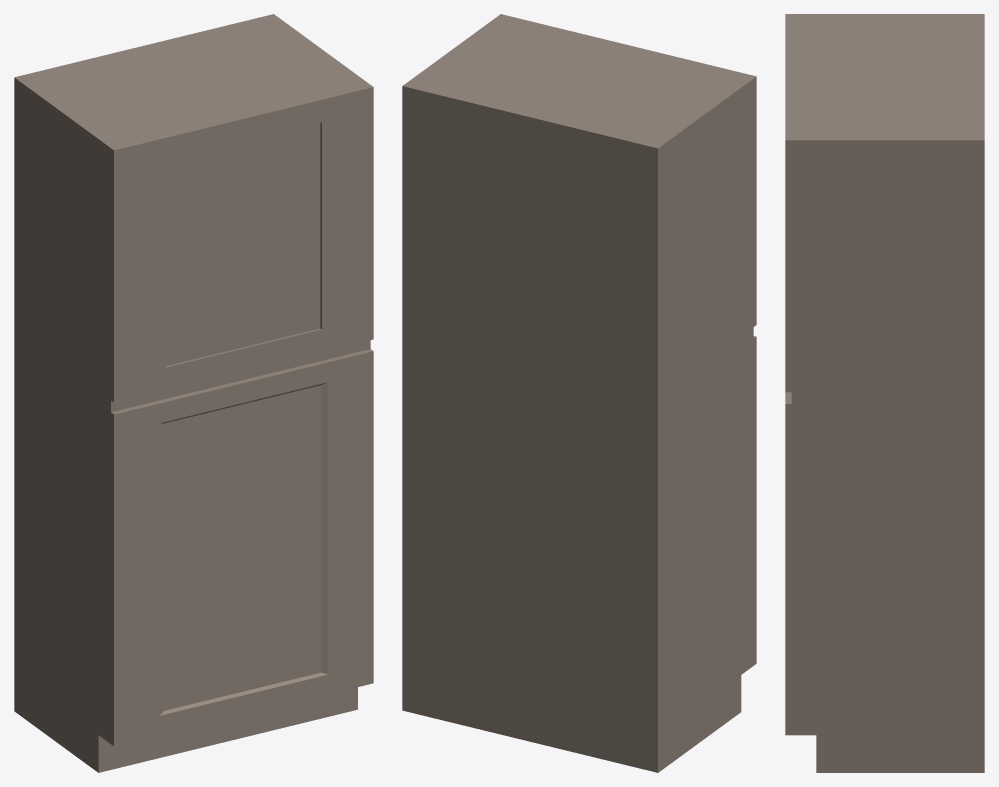
Rendered from Utility-Cabinet-24-Deep_std_001_W36in_2D.glb.
The picture shows the model from 3 angles, left to right: view 1: azimuth 30°, elevation 25°; view 2: azimuth 150°, elevation 25°; view 3: azimuth 270°, elevation 25°; orthographic projection.
Parts seen in each view (by area): view 1: Utility-Cabinet-24-Deep.std.001_W36in_2D; view 2: Utility-Cabinet-24-Deep.std.001_W36in_2D; view 3: Utility-Cabinet-24-Deep.std.001_W36in_2D.
Boxes of the visible parts, left/top/right/bottom form: Utility-Cabinet-24-Deep.std.001_W36in_2D: left=14, top=14, right=373, bottom=772; Utility-Cabinet-24-Deep.std.001_W36in_2D: left=402, top=14, right=756, bottom=772; Utility-Cabinet-24-Deep.std.001_W36in_2D: left=785, top=14, right=984, bottom=772.
Size of the model in its own units: 0.9144 by 2.13 by 0.6096.
